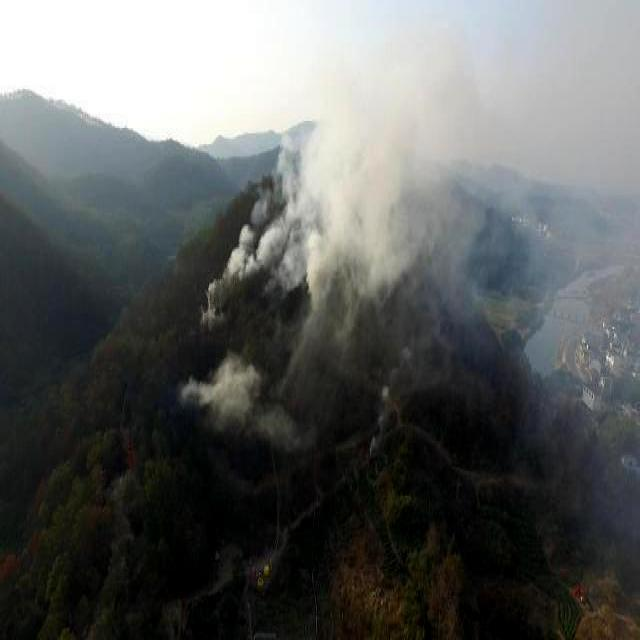Smoke: (226, 30, 610, 326), (178, 336, 300, 456)
